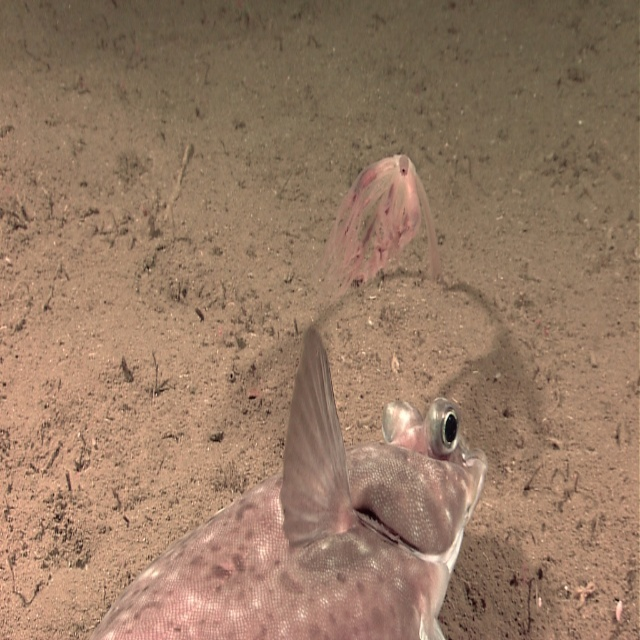Fish: (79, 324, 488, 639)
